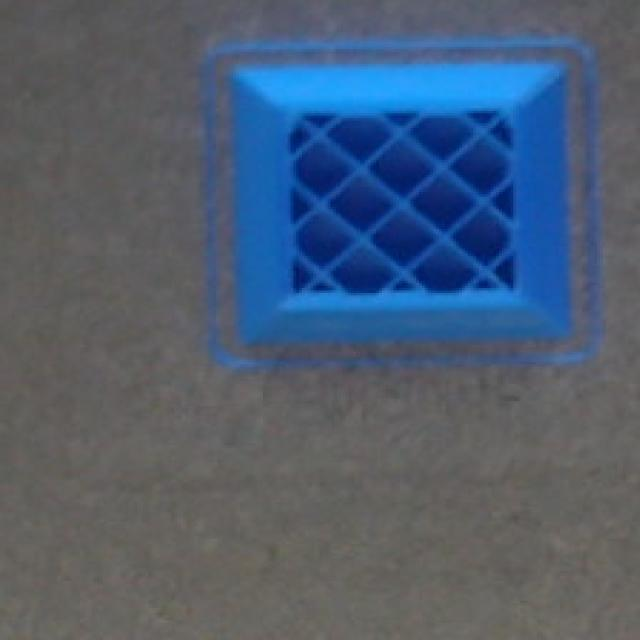noMistake: (208, 42, 593, 364)
